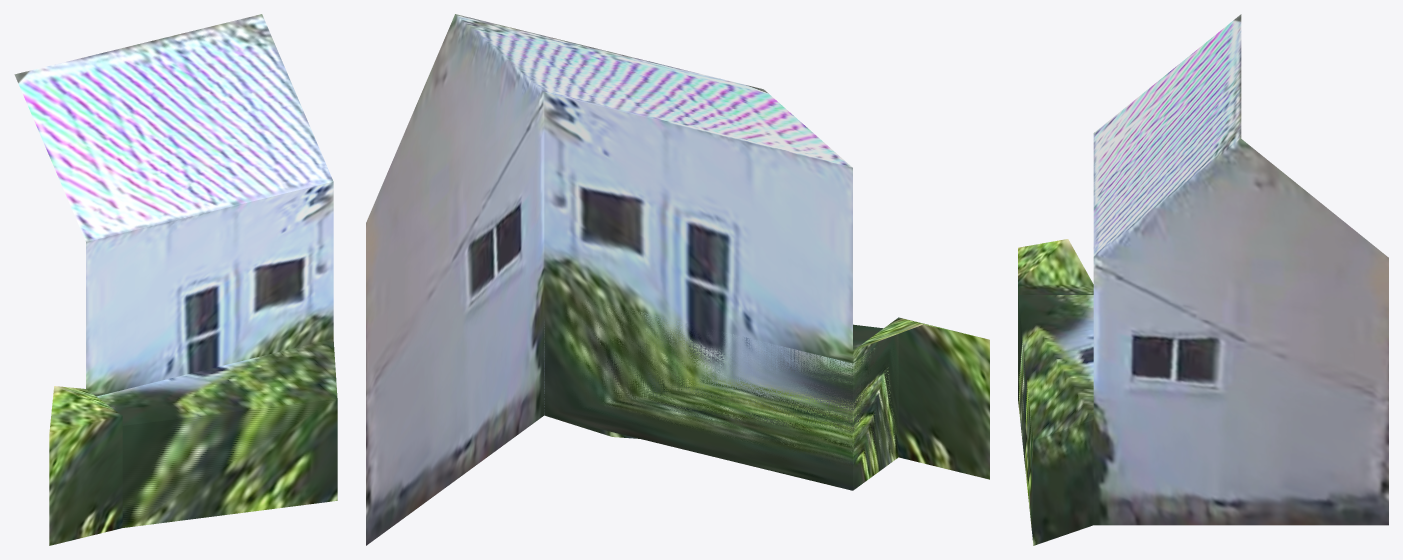
File: shed.glb
The picture shows the model from 3 angles, left to right: view 1: azimuth 30°, elevation 25°; view 2: azimuth 150°, elevation 25°; view 3: azimuth 270°, elevation 25°; orthographic projection. The views are drawn at different scales.
Parts seen in each view (by area): view 1: Cube; view 2: Cube; view 3: Cube.
Boxes of the visible parts, x1,y1,x2,y2 form: Cube: [14, 14, 337, 545]; Cube: [366, 14, 989, 545]; Cube: [1018, 14, 1388, 545].
Bounding box in the file's own units: 2.59 × 3.14 × 2.51.
Materials: 1 (1 with a texture image).
